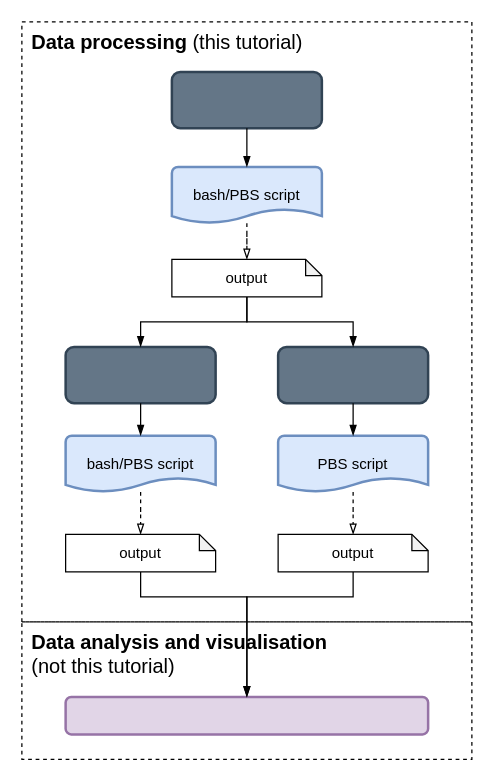
Image size: 494x781. Some labels were removed from this diagram. Each missing label, with the centre of its shape:
"Functional profiling" belongs at [352,374].
"QC step" belongs at [246,99].
"Taxonomy profiling" belongs at [140,374].
"Visualisation and analysis" belongs at [246,715].
